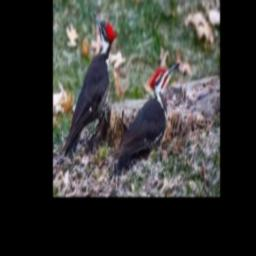Woodpecker: (59, 13, 117, 162), (110, 62, 180, 165)
